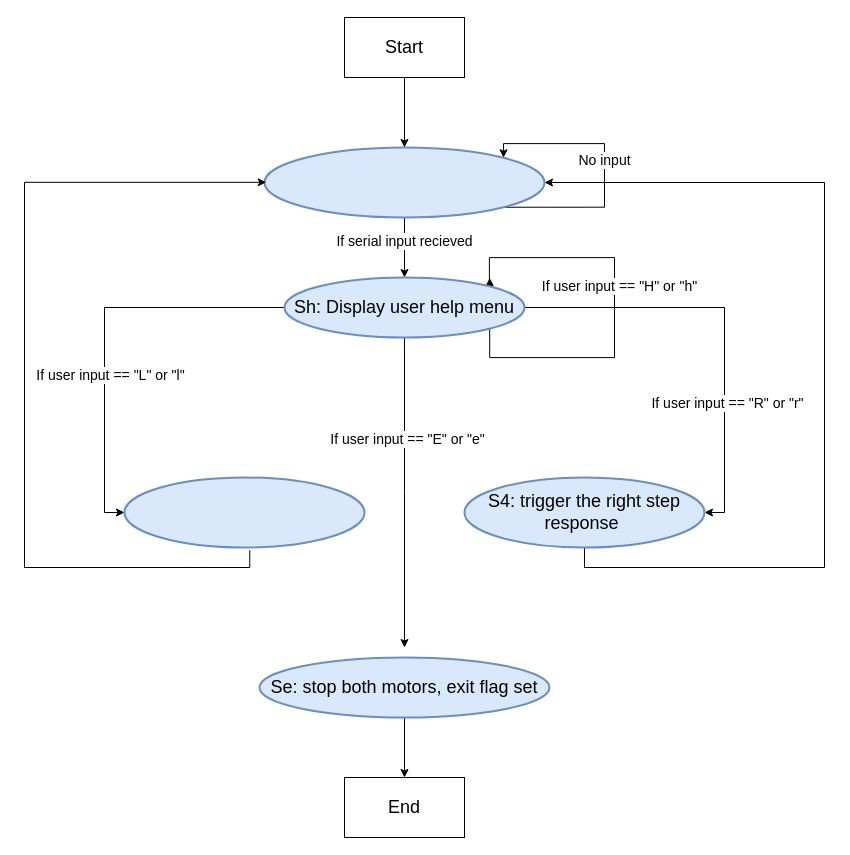
Image size: 850x855. Some labels were removed from this diagram. The shapes that lost their labels are listed below. From the top down, each one's box as (x1, y1, x2, y2) in pixels, then its label:
(263, 146, 545, 218): Initialize: Check/handle serial input
(123, 476, 365, 548): Sl: trigger left step response
